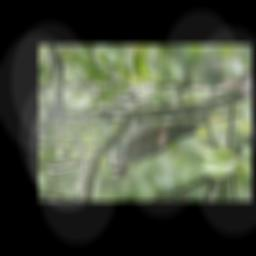Cuckoo: (110, 109, 246, 178)
